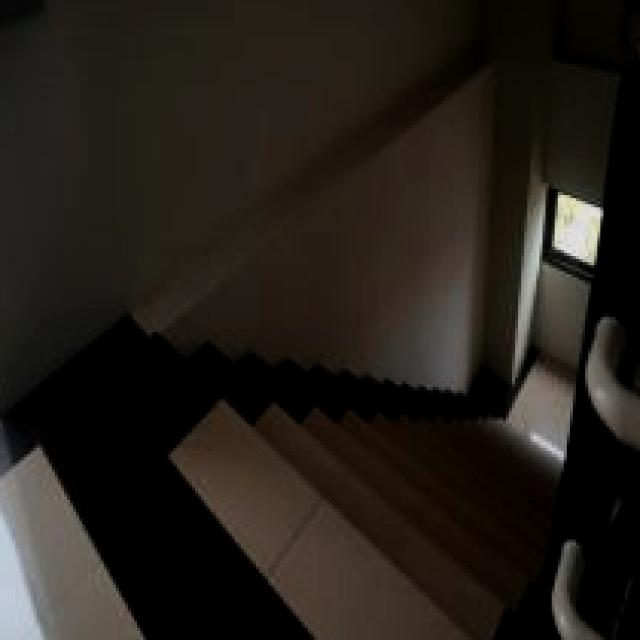downstair: (175, 345, 534, 640)
